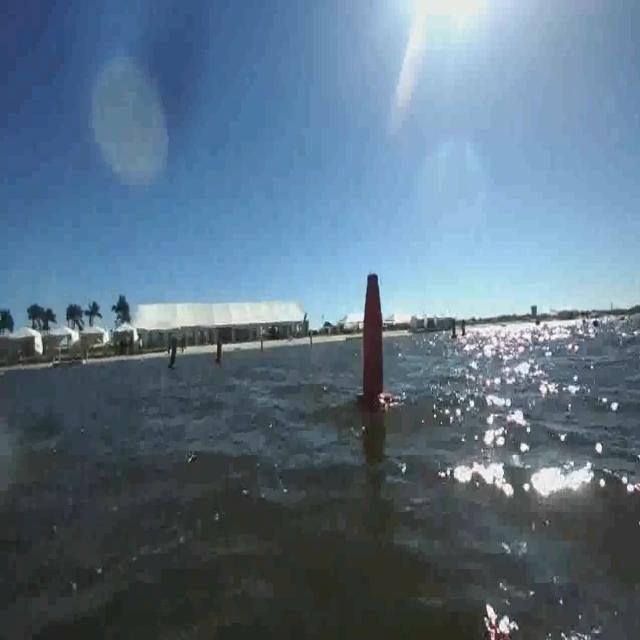green-column-buoy: (451, 316, 460, 340)
red-column-buoy: (358, 269, 388, 409), (215, 341, 224, 365)
